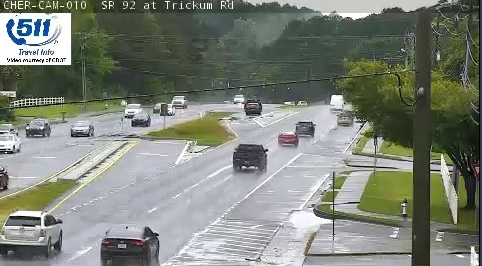car: (1, 210, 62, 250), (100, 223, 160, 261), (233, 143, 267, 169), (278, 132, 299, 147), (296, 122, 314, 136)
